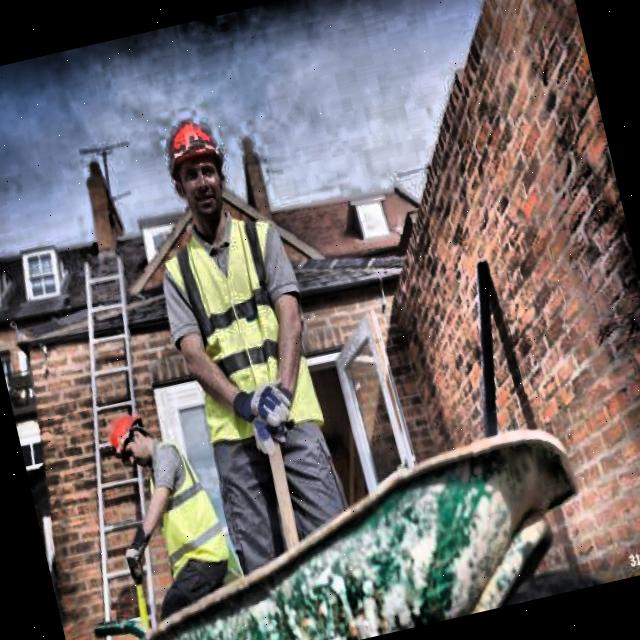helmet: (153, 102, 241, 226), (94, 406, 160, 474)
